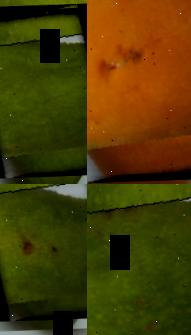Ripe: (87, 0, 191, 179)
Unripe: (87, 184, 191, 335), (0, 5, 87, 176), (0, 184, 87, 319)
